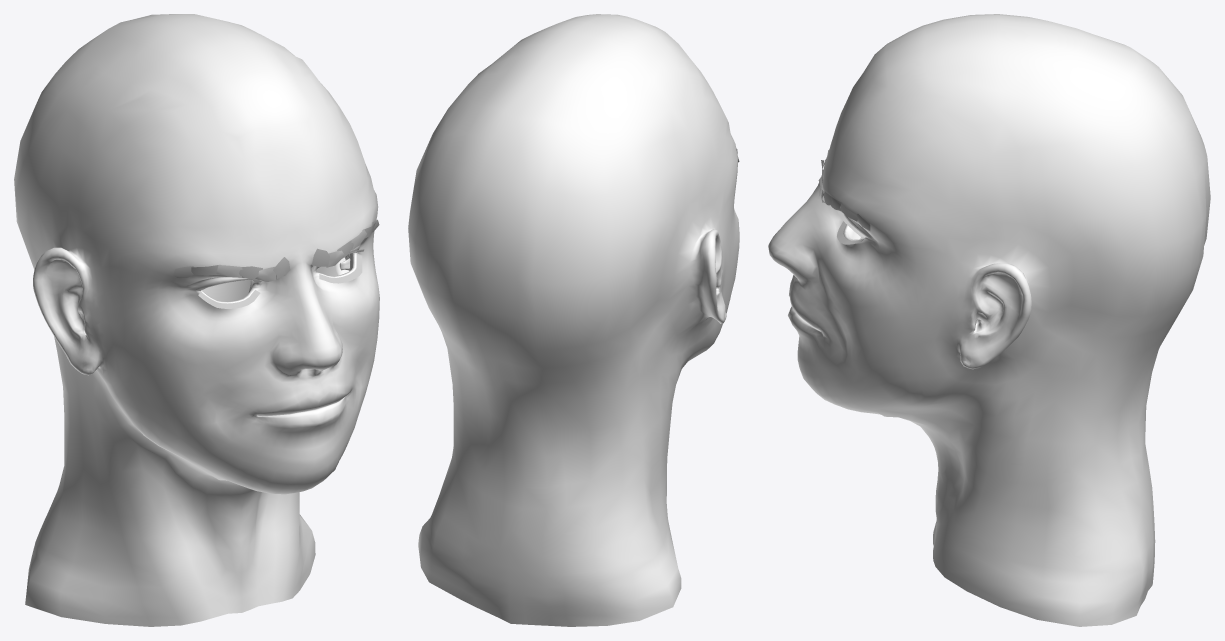
File: browDown.obj
3 renders of one model, left to right at view 1: azimuth 30°, elevation 25°; view 2: azimuth 150°, elevation 25°; view 3: azimuth 270°, elevation 25°, orthographic. The views are drawn at different scales.
Visible parts, largest first — view 1: FaceMesh_Plane.003; view 2: FaceMesh_Plane.003; view 3: FaceMesh_Plane.003.
Boxes of the visible parts, x1=… form: FaceMesh_Plane.003: x1=14, y1=14, x2=379, y2=626; FaceMesh_Plane.003: x1=408, y1=14, x2=739, y2=626; FaceMesh_Plane.003: x1=768, y1=14, x2=1210, y2=626.
Bounding box in the file's own units: 1.54 × 2.71 × 1.94.
Materials: 5 (1 with a texture image).
